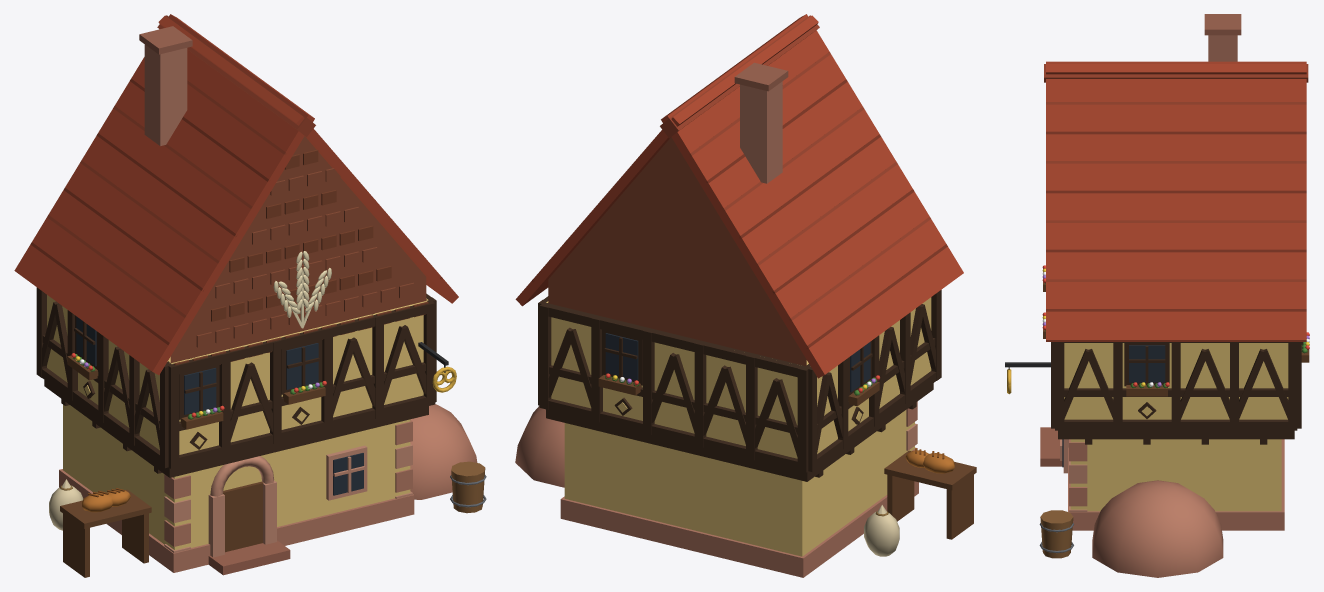
The model's file is baeckerei.glb.
3 views of the same model, side by side, from view 1: azimuth 30°, elevation 25°; view 2: azimuth 150°, elevation 25°; view 3: azimuth 270°, elevation 25° (orthographic). The views are drawn at different scales.
Bounding box in the file's own units: 4.95 × 5.21 × 3.32.
